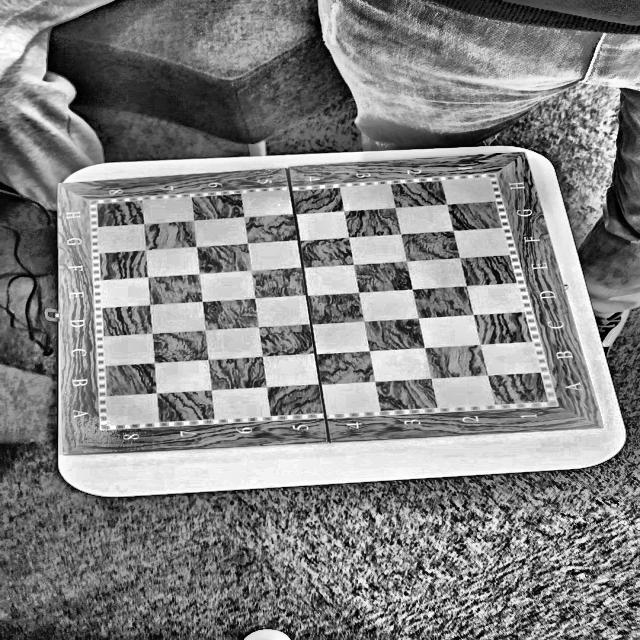chessboard: (58, 159, 597, 455)
